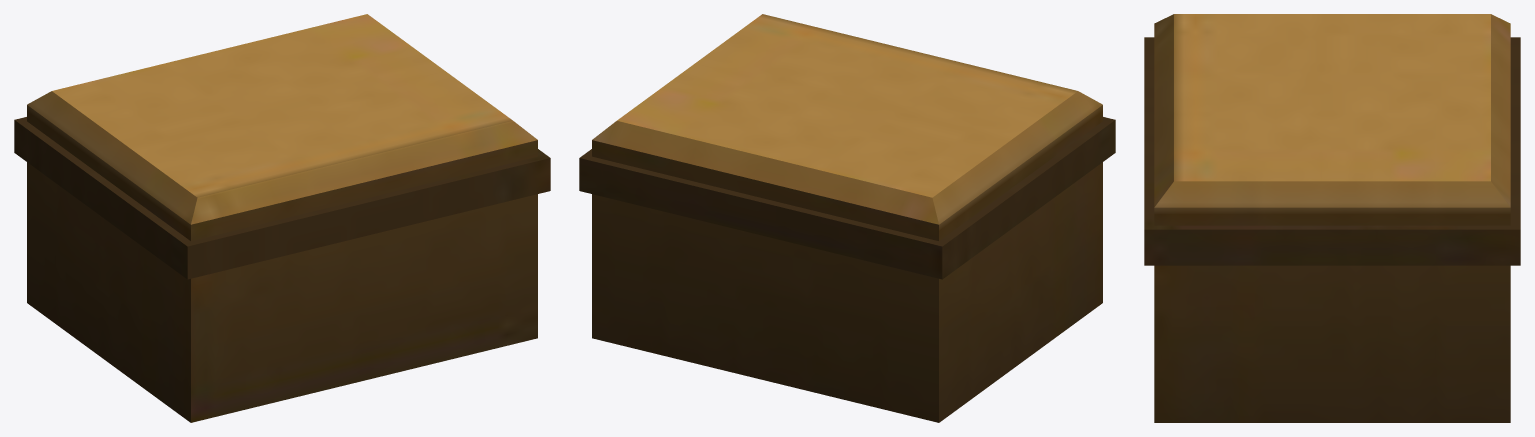
The model's file is wooden-chest.glb.
3 renders of one model, left to right at view 1: azimuth 30°, elevation 25°; view 2: azimuth 150°, elevation 25°; view 3: azimuth 270°, elevation 25°, orthographic. The views are drawn at different scales.
Parts seen in each view (by area): view 1: wooden-chest; view 2: wooden-chest; view 3: wooden-chest.
Boxes of the visible parts, left/top/right/bottom form: wooden-chest: left=14, top=14, right=550, bottom=422; wooden-chest: left=579, top=14, right=1115, bottom=422; wooden-chest: left=1144, top=14, right=1520, bottom=422.
Size of the model in its own units: 0.23 by 0.13 by 0.19.
Materials: 1 (1 with a texture image).
